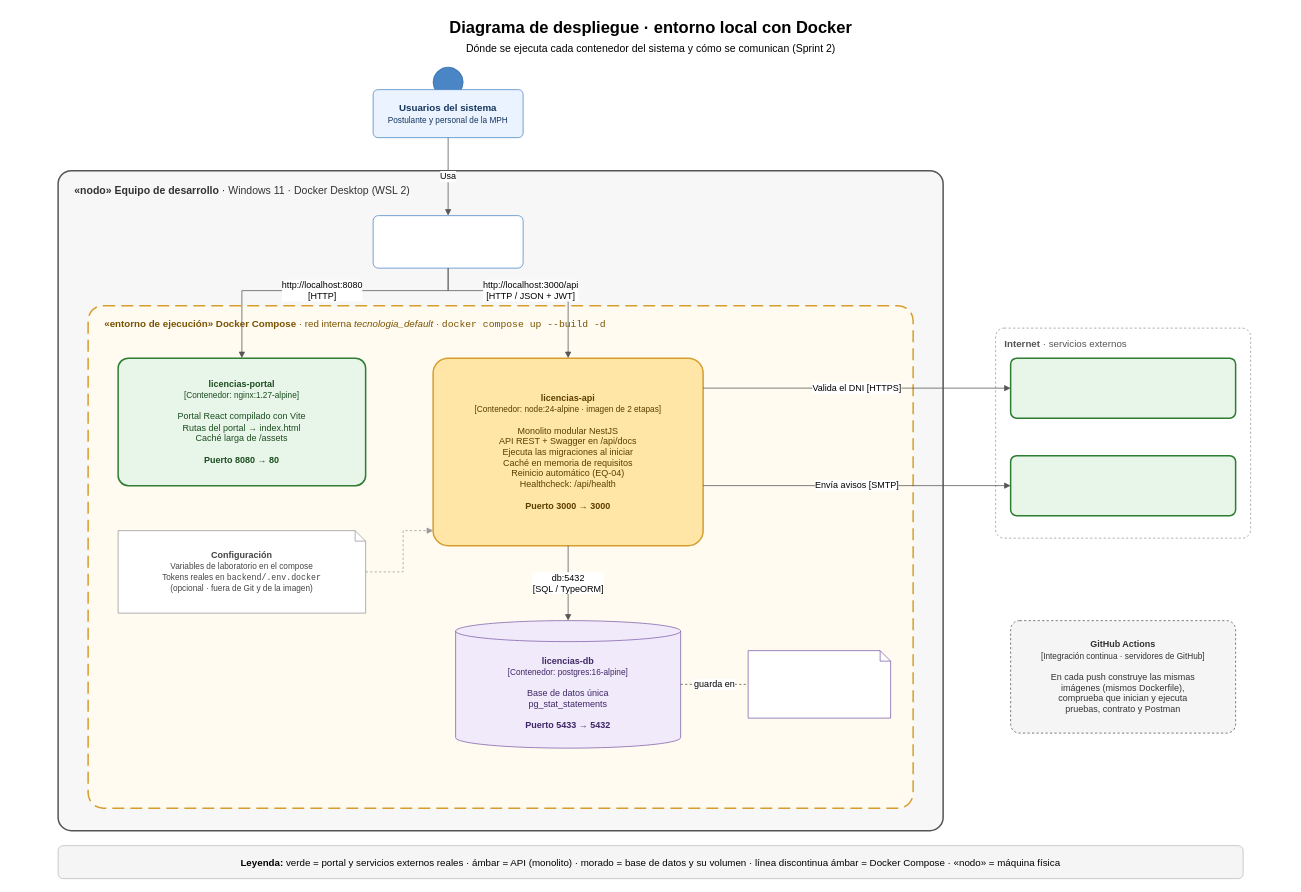
Image size: 1301x892. Some labels were removed from this diagram. The centre of each missing label's shape, as x and y in pixels:
"API Perú Consulta de datos del DNI" goes at pixel 1123 387.
"Correo electrónico Servidor SMTP" goes at pixel 1123 485.
"Navegador web Chrome, Edge o Brave" goes at pixel 447 241.
"Volumen datos-postgres Los datos sobreviven a docker compose down" goes at pixel 819 684.
